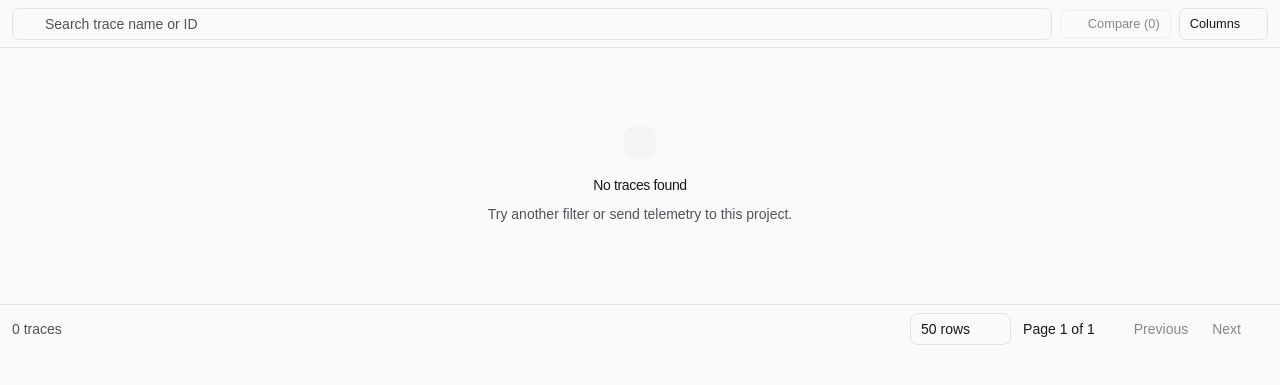
Test: overview controls › opens the trace column chooser within a valid Base UI menu group
This screenshot has width=1280, height=385.
What coordinates should you click on to do the following:
click the button "Columns"
I would click on:
 (1223, 24)
Its box is [1179, 8, 1268, 40].
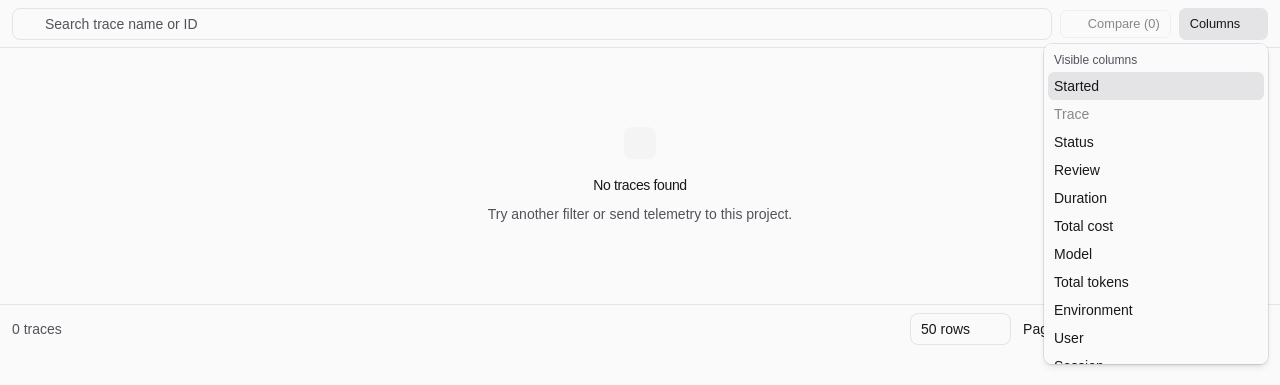
Expected: the text "Visible columns" is shown, [1054, 53, 1137, 67]
